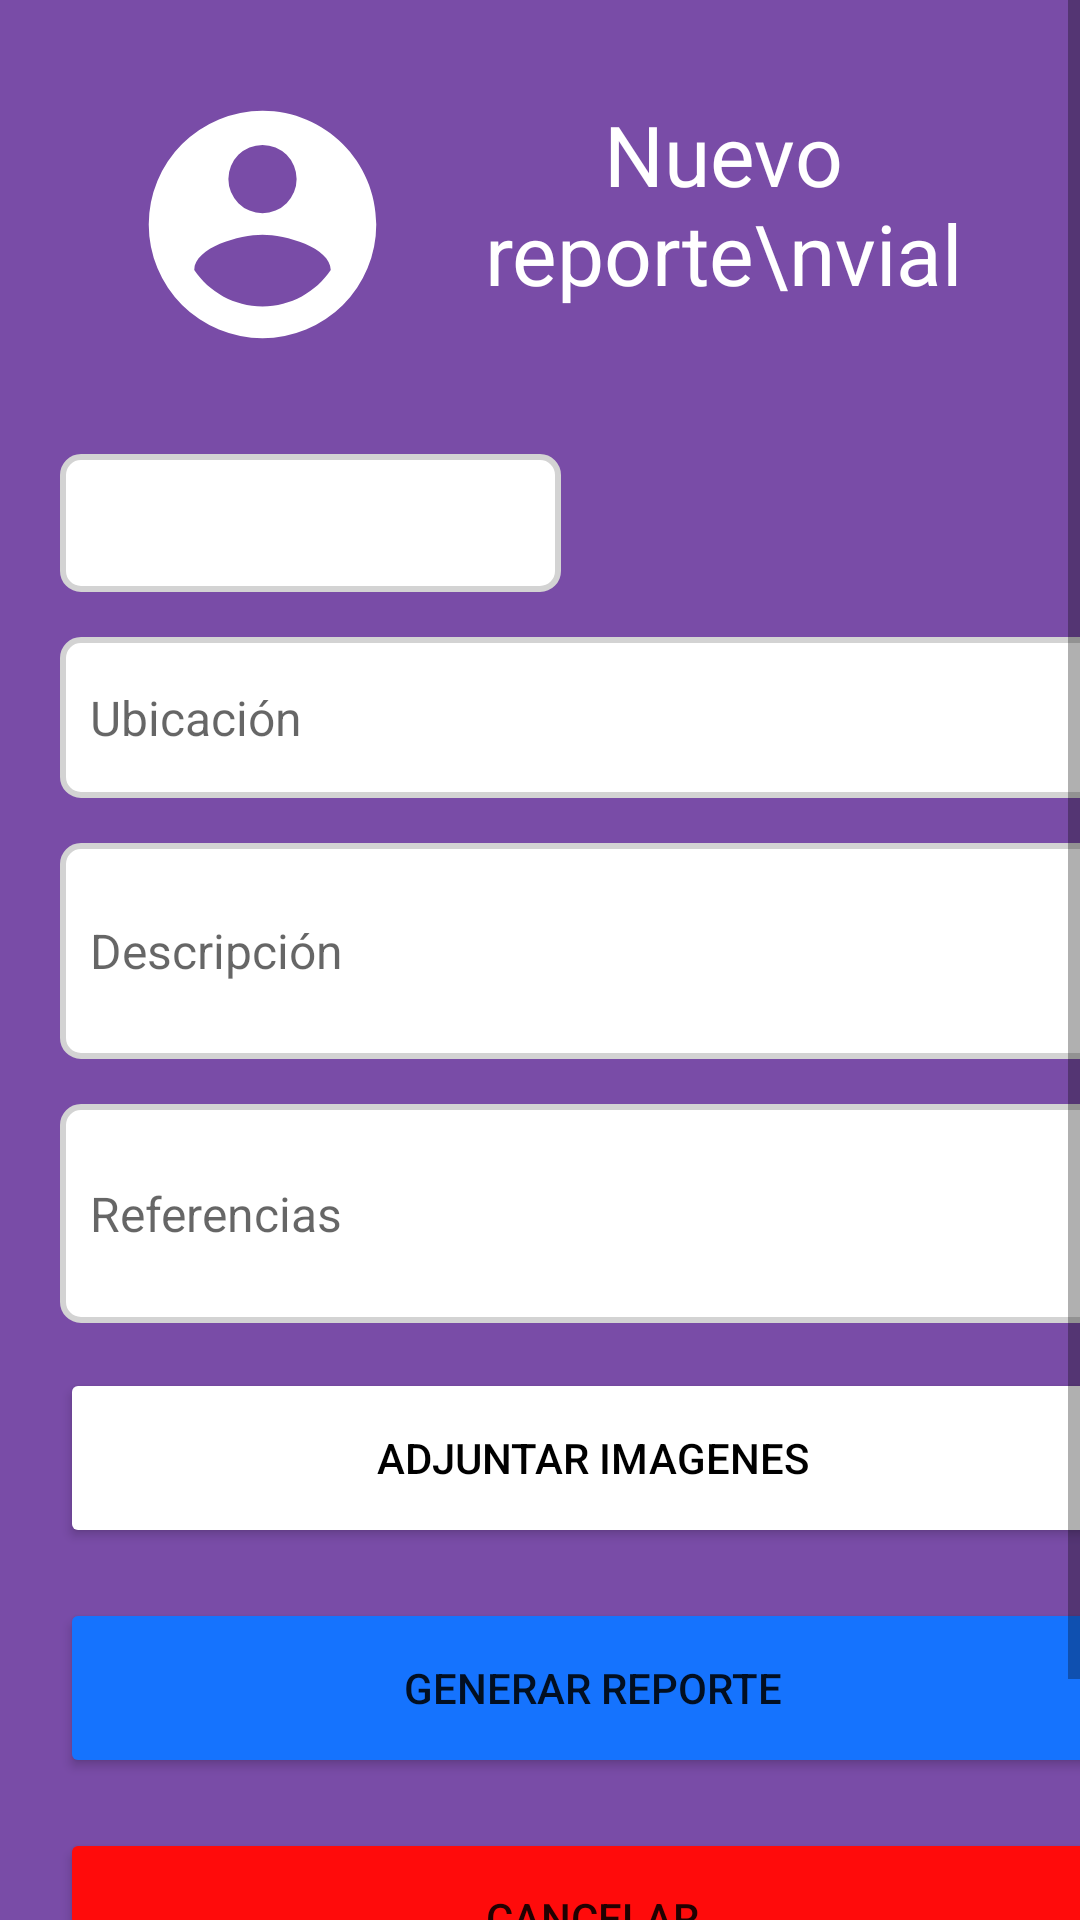

Icon bounding boxes for this 1080px×1920px phone screenshot, format bbox=[x1, y1, x2, y2]:
account circle: bbox=[148, 110, 377, 339]
